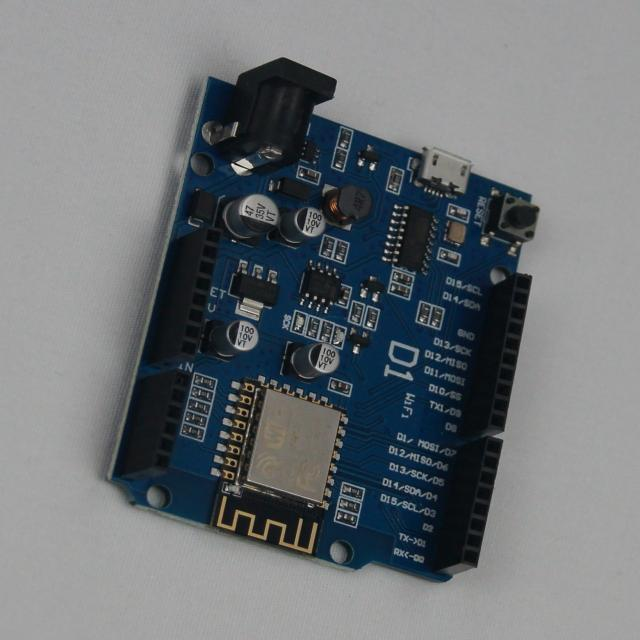Arduino Uno WiFi Shield: (111, 59, 539, 582)
